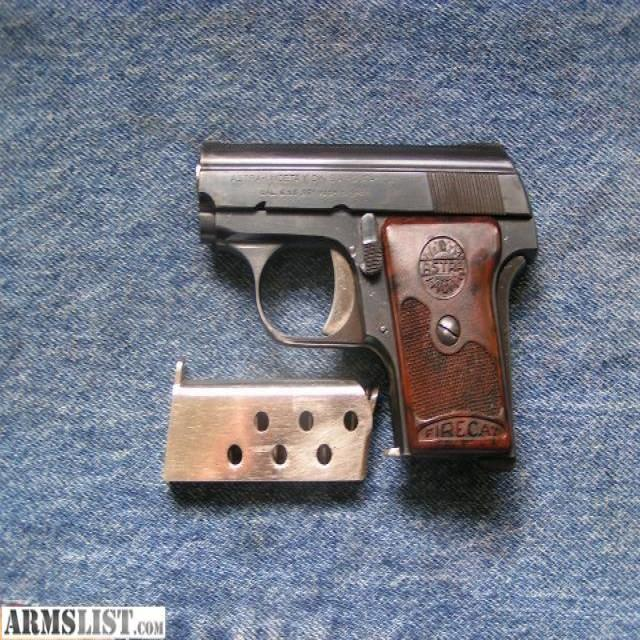HandGun: (195, 141, 540, 465)
